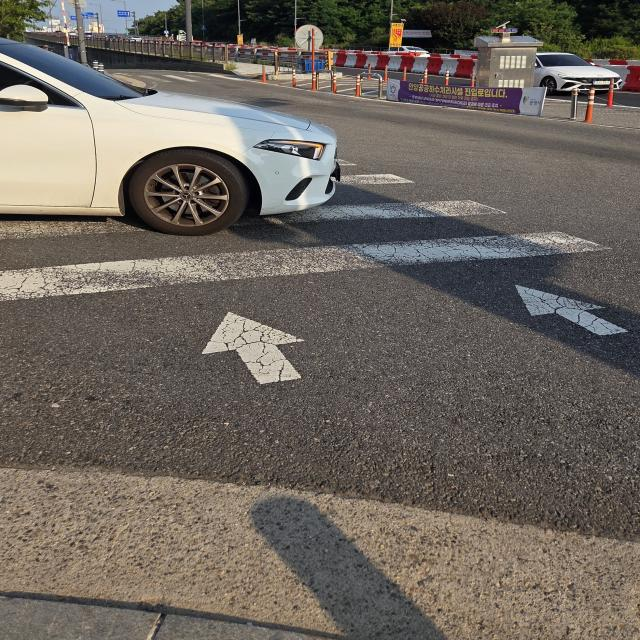car: (0, 33, 337, 238), (532, 52, 626, 95)
